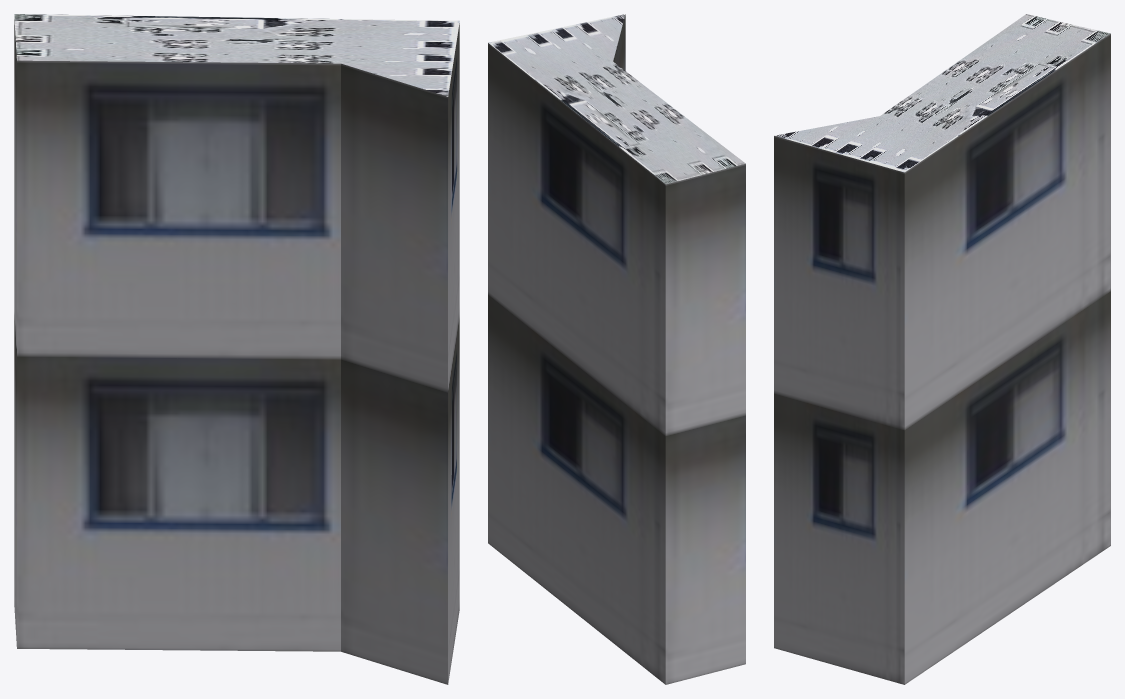
The model's file is ResTex__3618.fbx.
3 views of the same model, side by side, from view 1: azimuth 30°, elevation 25°; view 2: azimuth 150°, elevation 25°; view 3: azimuth 270°, elevation 25° (orthographic). The views are drawn at different scales.
Parts seen in each view (by area): view 1: CityEngineMaterial_9_m, CityEngineMaterial_8_m; view 2: CityEngineMaterial_9_m, CityEngineMaterial_8_m; view 3: CityEngineMaterial_9_m, CityEngineMaterial_8_m.
Part boxes in pixels (left/top/right/bottom): CityEngineMaterial_9_m: left=14, top=19, right=459, bottom=684; CityEngineMaterial_8_m: left=14, top=14, right=459, bottom=96; CityEngineMaterial_9_m: left=488, top=14, right=745, bottom=684; CityEngineMaterial_8_m: left=488, top=14, right=745, bottom=184; CityEngineMaterial_9_m: left=774, top=33, right=1110, bottom=684; CityEngineMaterial_8_m: left=774, top=14, right=1110, bottom=172.
Bounding box in the file's own units: 3.98 × 6 × 3.58.
Materials: 2 (2 with a texture image).
